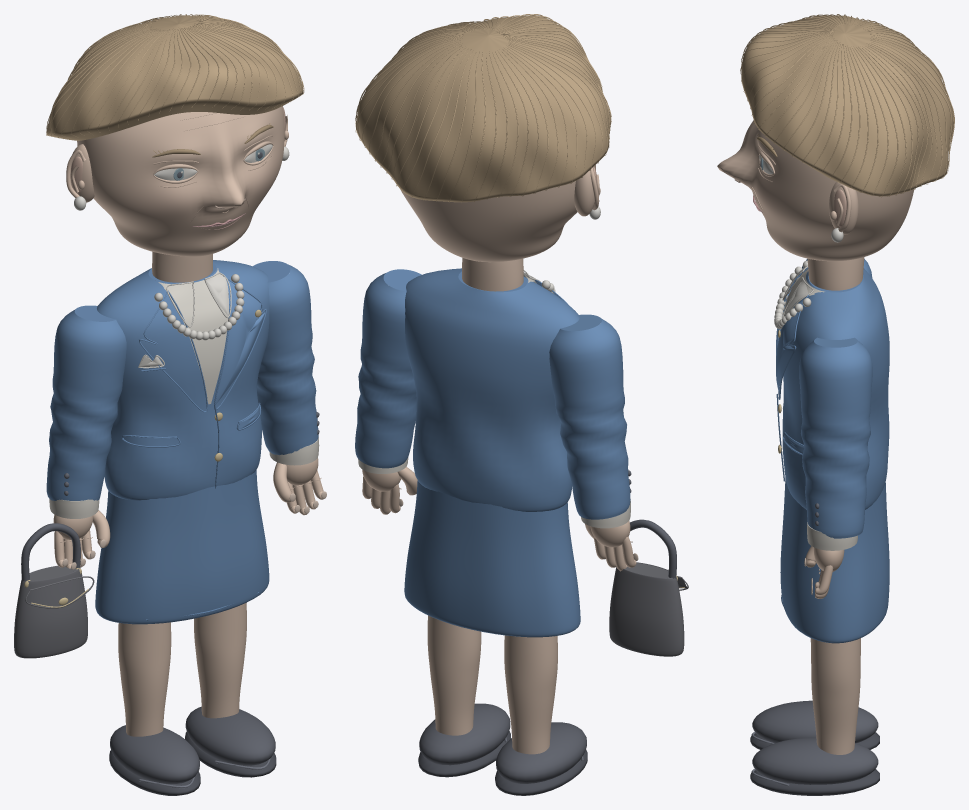
Rendered from margaret_thatcher_1990_v2.glb.
The picture shows the model from 3 angles, left to right: view 1: azimuth 30°, elevation 25°; view 2: azimuth 150°, elevation 25°; view 3: azimuth 270°, elevation 25°; orthographic projection.
Visible parts, largest first — view 1: Margaret Thatcher; view 2: Margaret Thatcher; view 3: Margaret Thatcher.
Part boxes in pixels (x1,y1,x2,y2): Margaret Thatcher: (14, 14, 326, 795); Margaret Thatcher: (355, 14, 688, 795); Margaret Thatcher: (717, 14, 954, 795).
Bounding box in the file's own units: 2.1 × 4.74 × 1.39.
